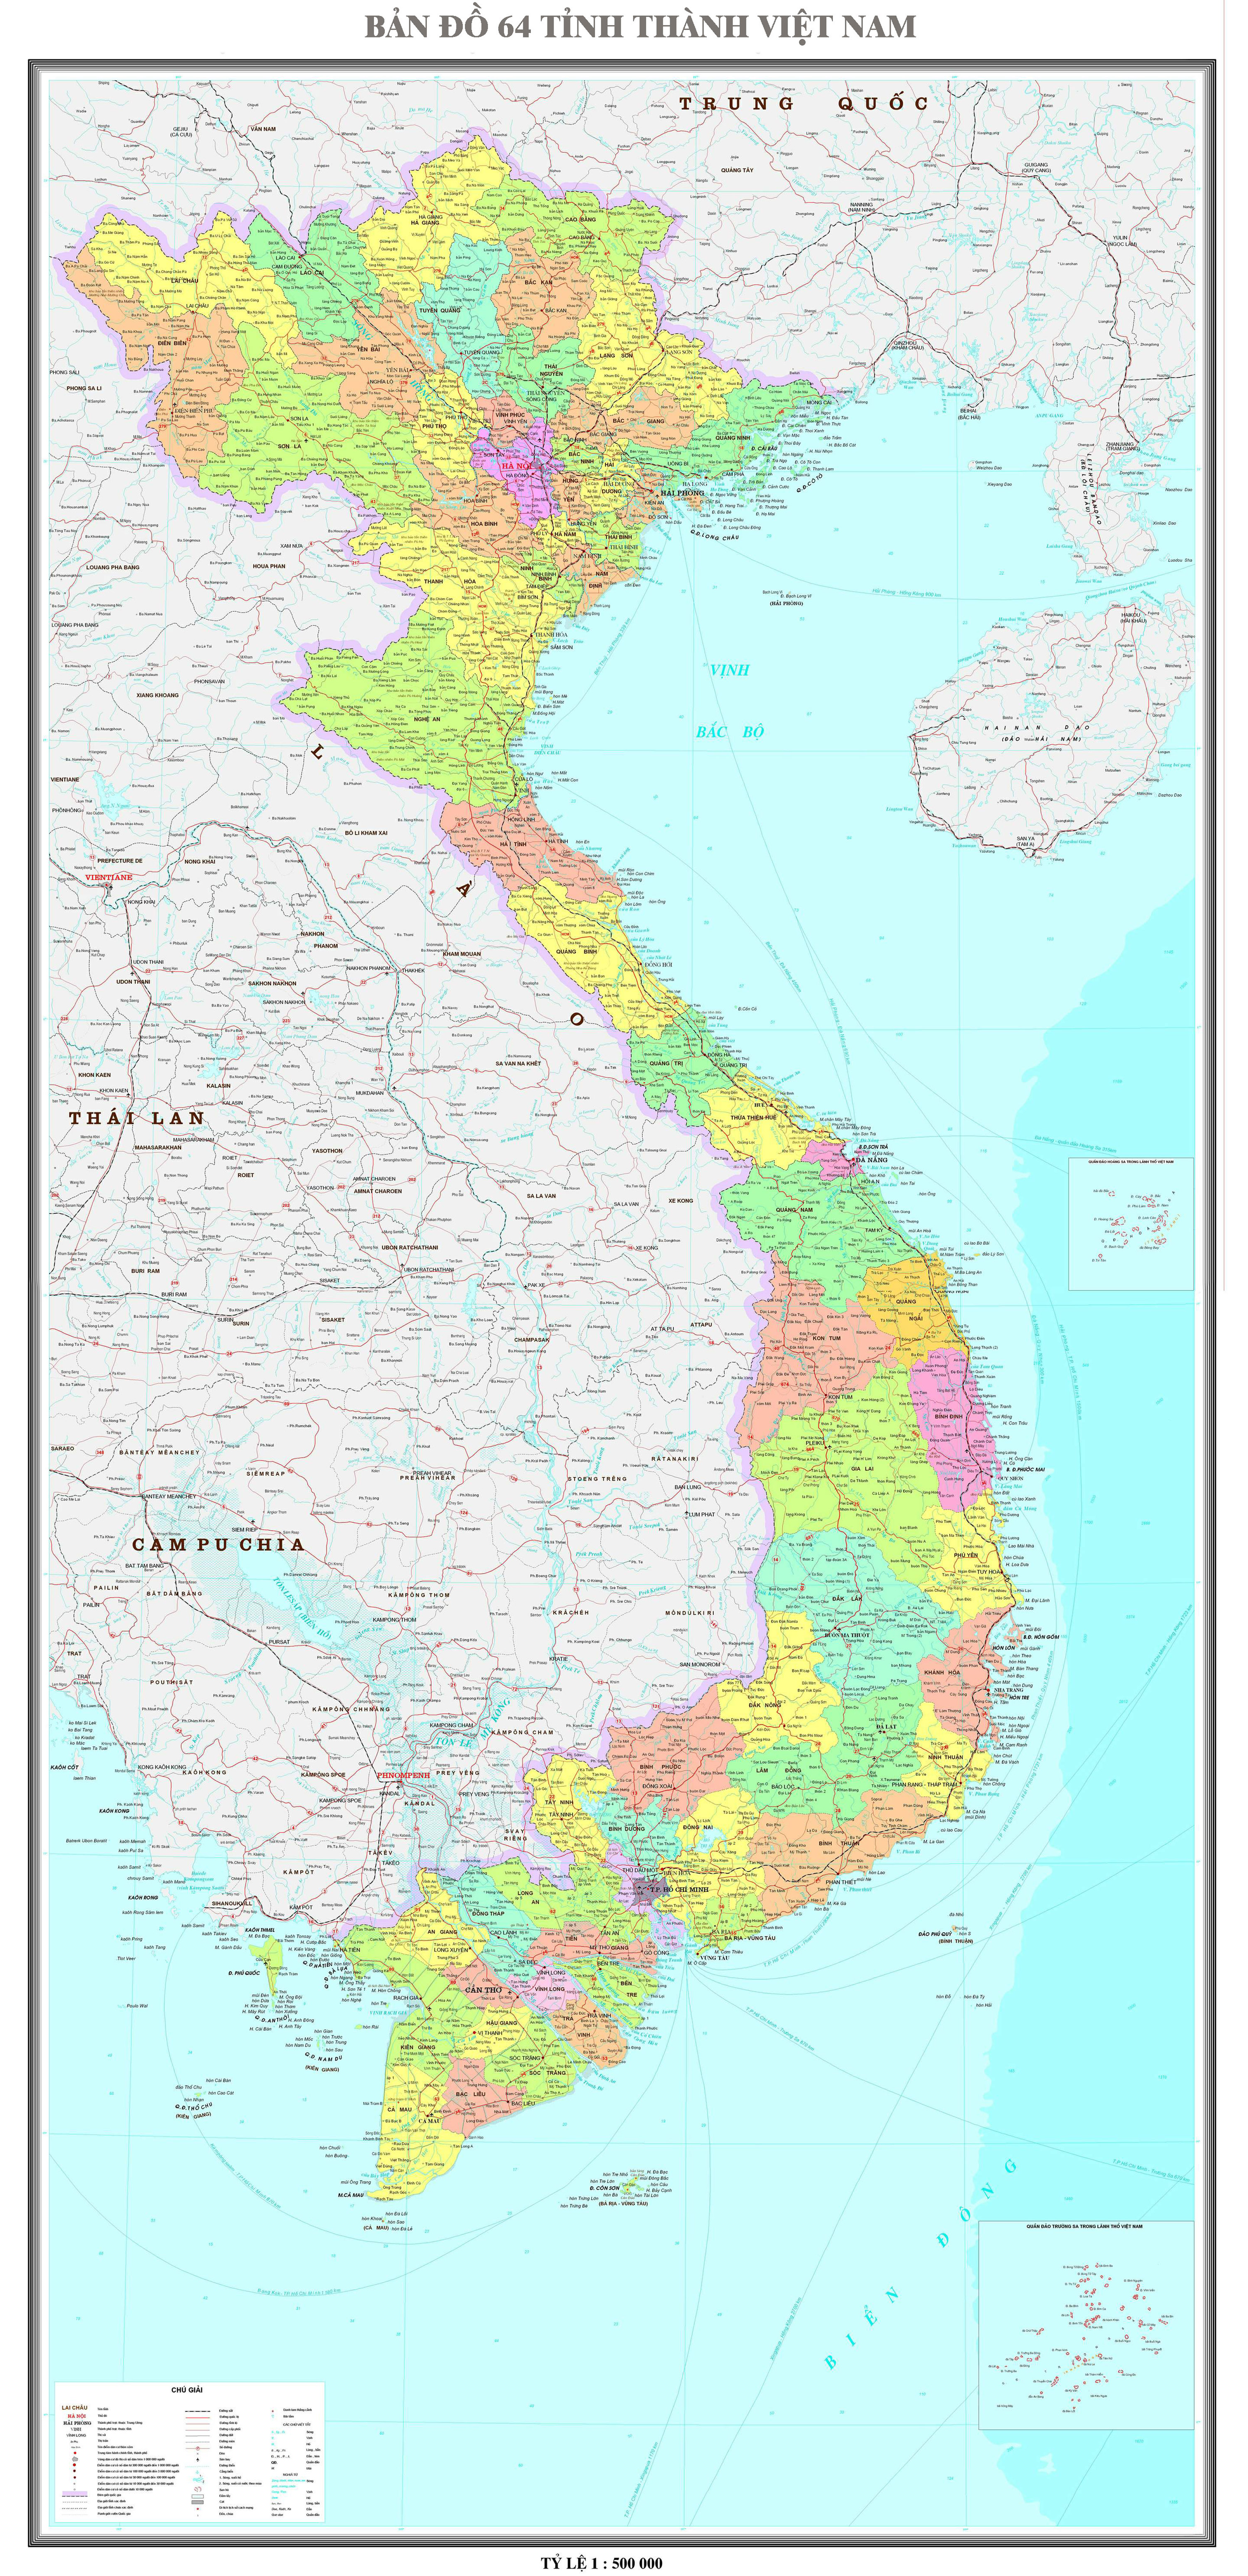Island: (966, 2219, 1207, 2445), (1069, 1163, 1191, 1288)
